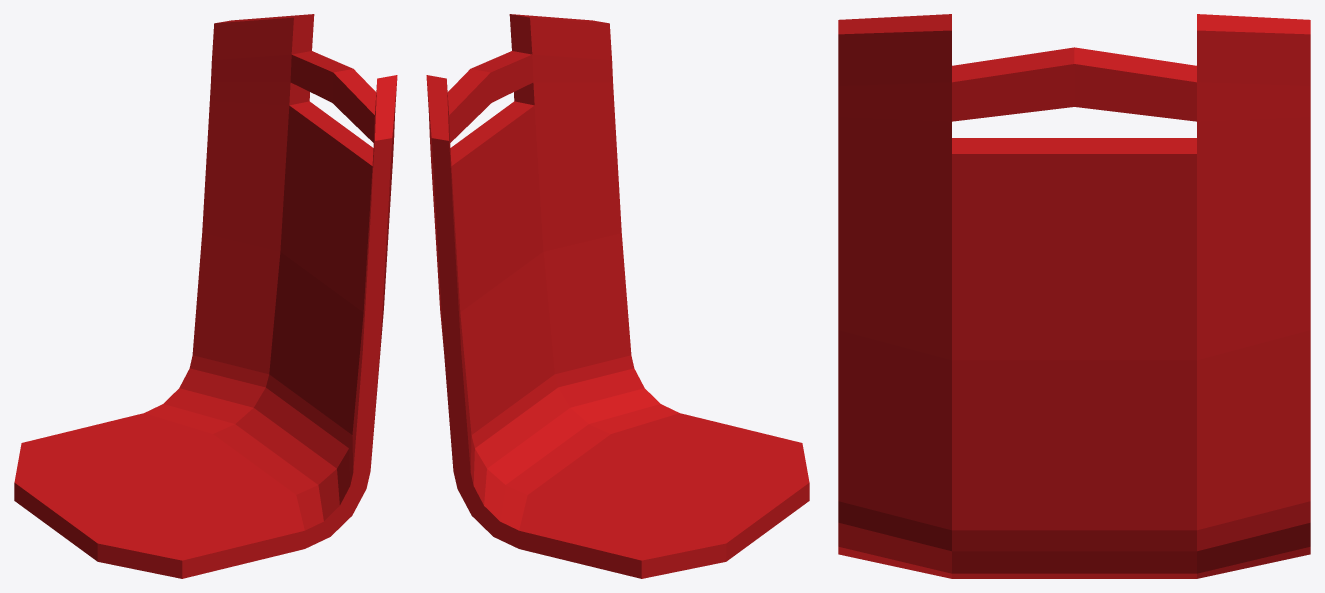
Rendered from Seat.fbx.
The picture shows the model from 3 angles, left to right: view 1: azimuth 30°, elevation 25°; view 2: azimuth 150°, elevation 25°; view 3: azimuth 270°, elevation 25°; orthographic projection. The views are drawn at different scales.
Parts seen in each view (by area): view 1: Flag.000; view 2: Flag.000; view 3: Flag.000.
Part boxes in pixels (box(x1,y1,x2,y2)): Flag.000: box(14, 14, 397, 578); Flag.000: box(426, 14, 809, 578); Flag.000: box(838, 14, 1310, 578).
Bounding box in the file's own units: 63.04 × 83.39 × 58.51.
